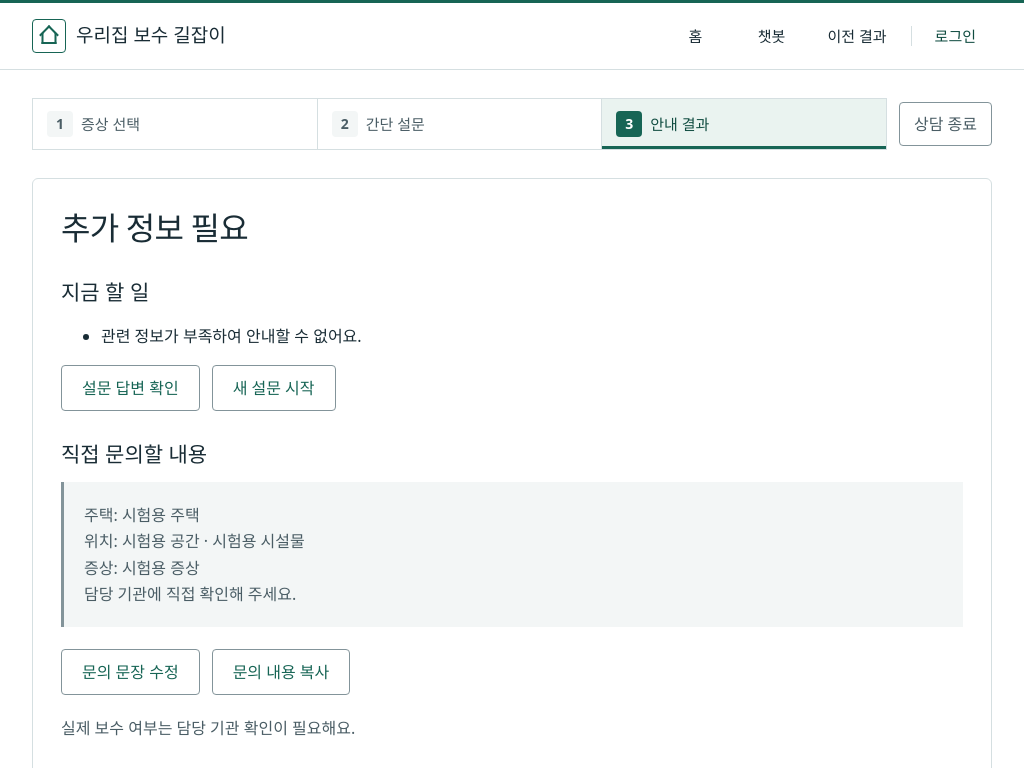
Test: returns a missing-input result directly to its unanswered survey question
The width and height of the screenshot is (1024, 768).
Click the link to "/survey".
click(130, 388)  # box [61,365,200,411]
(page scrolled)
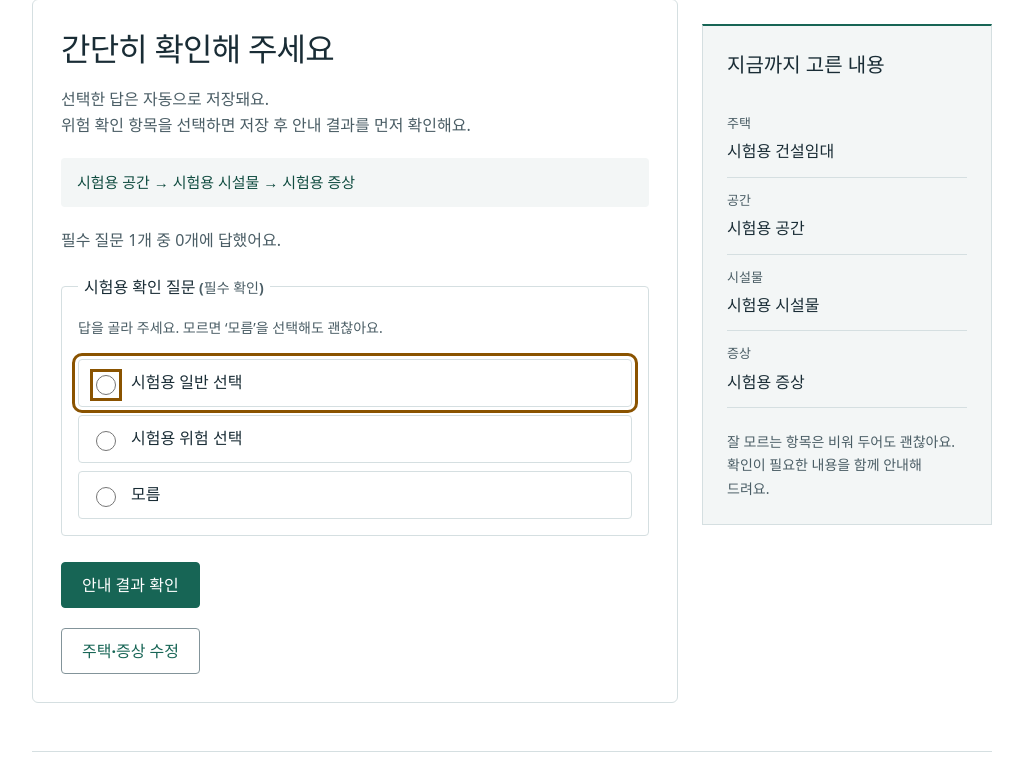
Expected: the text "답을 골라 주세요" is shown, [78,318,383,337]
